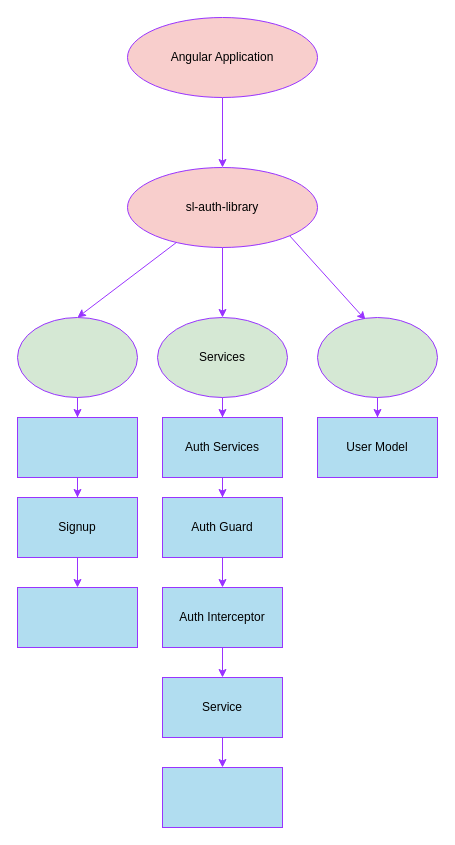
Some shapes in this 455 by 845 pixel diagram are drawn without their labels. The centre of each missing label's shape, as x and y in pixels:
"Components" belongs at point 77,357.
"Login" belongs at point 77,447.
"Models" belongs at point 377,357.
"OTP" belongs at point 77,617.
"Token Service" belongs at point 222,797.
